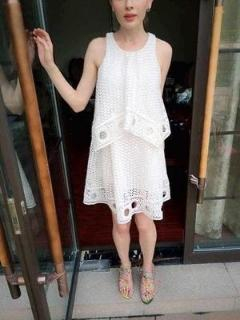skirt: (83, 114, 171, 224)
vest dress: (90, 32, 171, 151)
